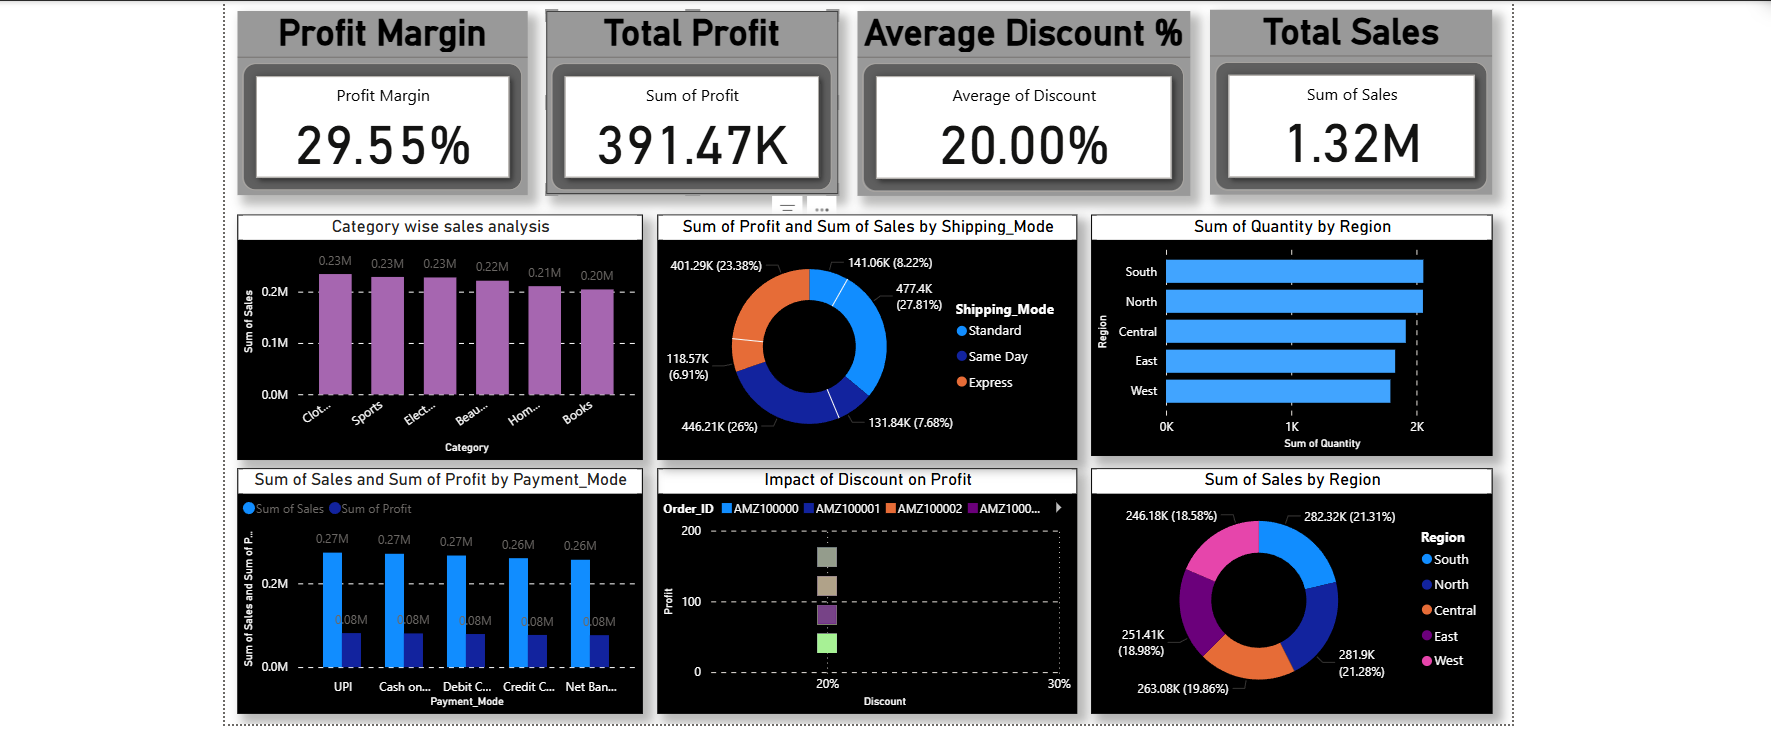

The dashboard page shown, as its layout file describes it:
{"tool":"powerbi","page":{"name":"Page 2","canvas":[1280,720],"ordinal":10},"visuals":[{"type":"clusteredColumnChart","title":"Category wise sales analysis ","fields":{"Category":["Fact_Sales.Category"],"Y":["Sum(Fact_Sales.Sales)"]},"box":[12.4,212.7,403,243.8],"z":0},{"type":"cardVisual","title":"Total Profit ","fields":{"Data":["Sum(Fact_Sales.Profit)"]},"box":[319.7,10,289.8,182.9],"z":1000},{"type":"cardVisual","title":"Average Discount %","fields":{"Data":["select","Avg(Fact_Sales.Discount)"]},"box":[629.4,10,330.9,184.1],"z":2000},{"type":"cardVisual","title":"Profit Margin ","fields":{"Data":["Fact_Sales.Profit Margin"]},"box":[12.4,10,288.6,182.9],"z":3000},{"type":"cardVisual","title":"Total Sales","fields":{"Data":["Sum(Fact_Sales.Sales)"]},"box":[980.2,8.7,281.1,184.1],"z":4000},{"type":"scatterChart","title":"Impact of Discount on Profit","fields":{"X":["Fact_Sales.Discount"],"Y":["Fact_Sales.Profit"],"Series":["Fact_Sales.Order_ID"]},"box":[430.4,465.2,418,243.8],"z":5000},{"type":"donutChart","fields":{"Category":["Fact_Sales.Shipping_Mode"],"Y":["Sum(Fact_Sales.Profit)","Sum(Fact_Sales.Sales)"]},"box":[430.4,212.7,418,243.8],"z":6000},{"type":"clusteredColumnChart","fields":{"Category":["Fact_Sales.Payment_Mode"],"Y":["Sum(Fact_Sales.Sales)","Sum(Fact_Sales.Profit)"]},"box":[12.4,465.2,403,243.8],"z":7000},{"type":"clusteredBarChart","fields":{"Category":["Fact_Sales.Region"],"Y":["Sum(Fact_Sales.Quantity)"]},"box":[862.1,212.7,399.3,240.1],"z":8000},{"type":"donutChart","fields":{"Category":["Fact_Sales.Region"],"Y":["Sum(Fact_Sales.Sales)"]},"box":[862.1,465.2,399.3,243.8],"z":9000}]}

Visuals, with their boxes on the page's 1280x720 design canvas (x1, y1, x2, y2). These are canvas units, not pixel positions in the 1771x733 screenshot, which may show the page scaled, cropped or inside an application window:
"Category wise sales analysis " clusteredColumnChart: bbox=(12, 213, 415, 456)
"Total Profit " cardVisual: bbox=(320, 10, 610, 193)
"Average Discount %" cardVisual: bbox=(629, 10, 960, 194)
"Profit Margin " cardVisual: bbox=(12, 10, 301, 193)
"Total Sales" cardVisual: bbox=(980, 9, 1261, 193)
"Impact of Discount on Profit" scatterChart: bbox=(430, 465, 848, 709)
donutChart - Fact_Sales.Shipping_Mode x Sum(Fact_Sales.Profit): bbox=(430, 213, 848, 456)
clusteredColumnChart - Fact_Sales.Payment_Mode x Sum(Fact_Sales.Sales): bbox=(12, 465, 415, 709)
clusteredBarChart - Fact_Sales.Region x Sum(Fact_Sales.Quantity): bbox=(862, 213, 1261, 453)
donutChart - Fact_Sales.Region x Sum(Fact_Sales.Sales): bbox=(862, 465, 1261, 709)
